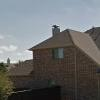Chimney: (46, 19, 64, 39)
